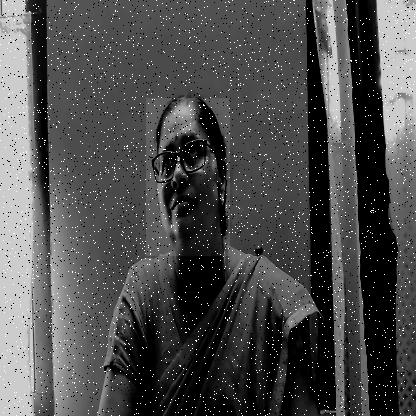Distracted: (146, 98, 230, 256)
